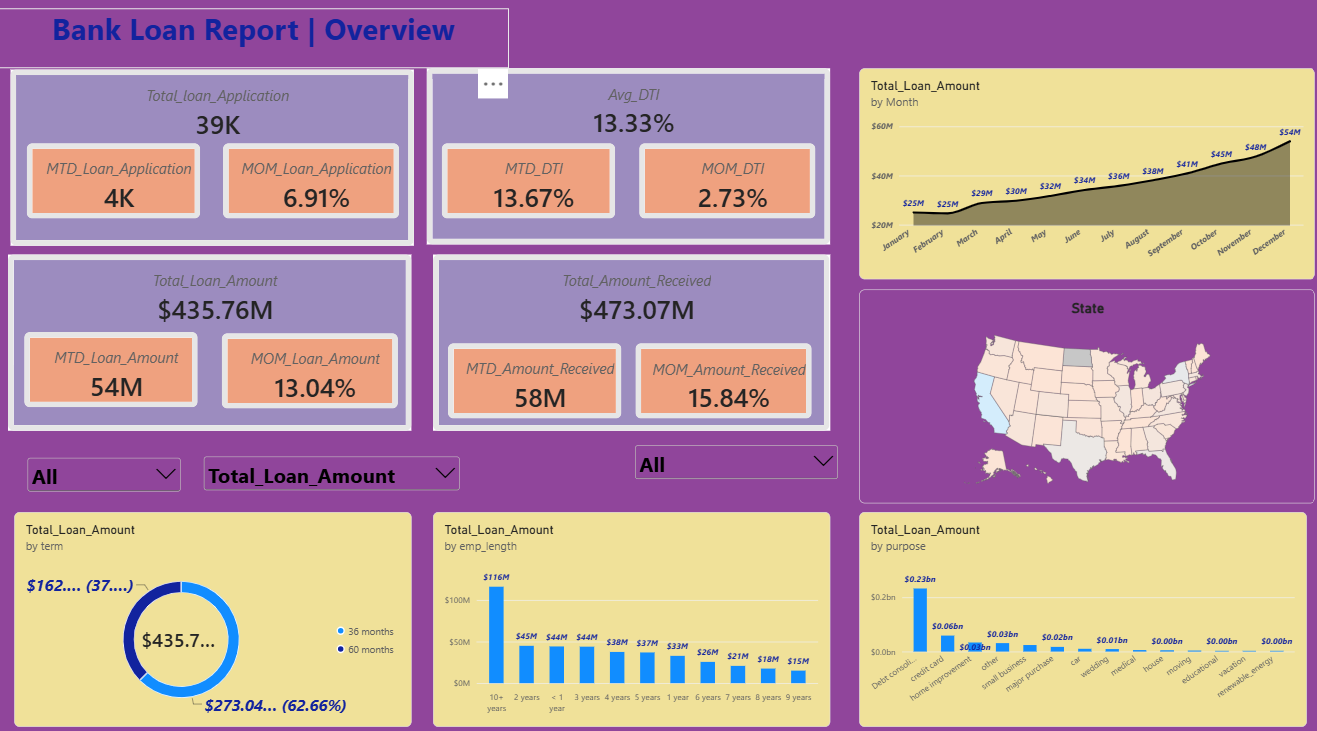

The page's visual inventory and layout, read from the dashboard file:
{"tool":"powerbi","page":{"name":"Duplicate of Page 1","canvas":[1920,1080],"ordinal":1},"visuals":[{"type":"cardVisual","title":"Total_Application","fields":{"Data":["bank_loan_database financial_loan.Total_loan_Application"]},"box":[17.7,112.7,584.1,255.1],"z":0},{"type":"cardVisual","fields":{"Data":["bank_loan_database financial_loan.MTD_Loan_Application"]},"box":[41.8,218.1,251.4,109],"z":1000},{"type":"cardVisual","fields":{"Data":["bank_loan_database financial_loan.MOM_Loan_Application"]},"box":[326.4,218.1,255.1,109],"z":2000},{"type":"cardVisual","title":"Total_Application","fields":{"Data":["bank_loan_database financial_loan.Avg_DTI"]},"box":[621.4,111.3,584.1,255.1],"z":3000},{"type":"cardVisual","fields":{"Data":["bank_loan_database financial_loan.MTD_DTI"]},"box":[641.7,218.5,251.4,109],"z":4000},{"type":"cardVisual","fields":{"Data":["bank_loan_database financial_loan.MOM_DTI"]},"box":[928.2,218.5,255.1,109],"z":5000},{"type":"cardVisual","title":"Total_Application","fields":{"Data":["bank_loan_database financial_loan.Total_Loan_Amount"]},"box":[14.8,380.7,584.1,255.1],"z":6000},{"type":"cardVisual","fields":{"Data":["bank_loan_database financial_loan.MTD_Loan_Amount"]},"box":[38.8,491.6,251.4,109],"z":7000},{"type":"cardVisual","fields":{"Data":["bank_loan_database financial_loan.MOM_Loan_Amount"]},"box":[323.5,493.5,255.1,109],"z":8000},{"type":"cardVisual","title":"Total_Application","fields":{"Data":["bank_loan_database financial_loan.Total_Amount_Received"]},"box":[630.3,380.7,574.8,255.1],"z":9000},{"type":"cardVisual","fields":{"Data":["bank_loan_database financial_loan.MTD_Amount_Received"]},"box":[650.6,508.3,251.4,109],"z":10000},{"type":"cardVisual","fields":{"Data":["bank_loan_database financial_loan.MOM_Amount_Received"]},"box":[922.3,508.3,255.1,109],"z":11000},{"type":"textbox","box":[0,23.5,740.2,86.9],"z":12000},{"type":"slicer","fields":{"Values":["bank_loan_database financial_loan.address_state"]},"box":[917.5,651.5,303.1,88.7],"z":13000},{"type":"slicer","fields":{"Values":["Date_table.Month_Number","Date_table.Month"]},"box":[38.8,669.1,231,70.2],"z":14000},{"type":"areaChart","fields":{"Y":["bank_loan_database financial_loan.Total_Loan_Amount"],"Category":["Date_table.Month"]},"box":[1246.9,110.4,660.5,305.8],"z":15000},{"type":"slicer","fields":{"Values":["Monthly_trend.Monthly_trend"]},"box":[293.2,667.8,380,72.4],"z":16000},{"type":"shapeMap","title":"State","fields":{"Value":["bank_loan_database financial_loan.Total_Loan_Amount"],"Category":["bank_loan_database financial_loan.address_state"]},"box":[1246.9,430.7,660.5,309.5],"z":17000},{"type":"donutChart","fields":{"Y":["bank_loan_database financial_loan.Total_Loan_Amount"],"Category":["bank_loan_database financial_loan.term"]},"box":[23.5,752.8,575.5,311.3],"z":18000},{"type":"columnChart","fields":{"Y":["bank_loan_database financial_loan.Total_Loan_Amount"],"Category":["bank_loan_database financial_loan.emp_length"]},"box":[630,753,575,311],"z":19000},{"type":"columnChart","fields":{"Y":["bank_loan_database financial_loan.Total_Loan_Amount"],"Category":["bank_loan_database financial_loan.purpose"]},"box":[1246.9,752.8,647.9,311.3],"z":20000}]}

Visuals, with their boxes in screenshot pixels (x1, y1, x2, y2), scaled from the page's 1920x1080 canvas onto the 1317x731 screenshot:
"Total_Application" cardVisual: [12, 76, 413, 249]
cardVisual - bank_loan_database financial_loan.MTD_Loan_Application: [29, 148, 201, 221]
cardVisual - bank_loan_database financial_loan.MOM_Loan_Application: [224, 148, 399, 221]
"Total_Application" cardVisual: [426, 75, 827, 248]
cardVisual - bank_loan_database financial_loan.MTD_DTI: [440, 148, 613, 222]
cardVisual - bank_loan_database financial_loan.MOM_DTI: [637, 148, 812, 222]
"Total_Application" cardVisual: [10, 258, 411, 430]
cardVisual - bank_loan_database financial_loan.MTD_Loan_Amount: [27, 333, 199, 407]
cardVisual - bank_loan_database financial_loan.MOM_Loan_Amount: [222, 334, 397, 408]
"Total_Application" cardVisual: [432, 258, 827, 430]
cardVisual - bank_loan_database financial_loan.MTD_Amount_Received: [446, 344, 619, 418]
cardVisual - bank_loan_database financial_loan.MOM_Amount_Received: [633, 344, 808, 418]
textbox: [0, 16, 508, 75]
slicer - bank_loan_database financial_loan.address_state: [629, 441, 837, 501]
slicer - Date_table.Month_Number x Date_table.Month: [27, 453, 185, 500]
areaChart - bank_loan_database financial_loan.Total_Loan_Amount x Date_table.Month: [855, 75, 1308, 282]
slicer - Monthly_trend.Monthly_trend: [201, 452, 462, 501]
"State" shapeMap: [855, 292, 1308, 501]
donutChart - bank_loan_database financial_loan.Total_Loan_Amount x bank_loan_database financial_loan.term: [16, 510, 411, 720]
columnChart - bank_loan_database financial_loan.Total_Loan_Amount x bank_loan_database financial_loan.emp_length: [432, 510, 827, 720]
columnChart - bank_loan_database financial_loan.Total_Loan_Amount x bank_loan_database financial_loan.purpose: [855, 510, 1300, 720]
